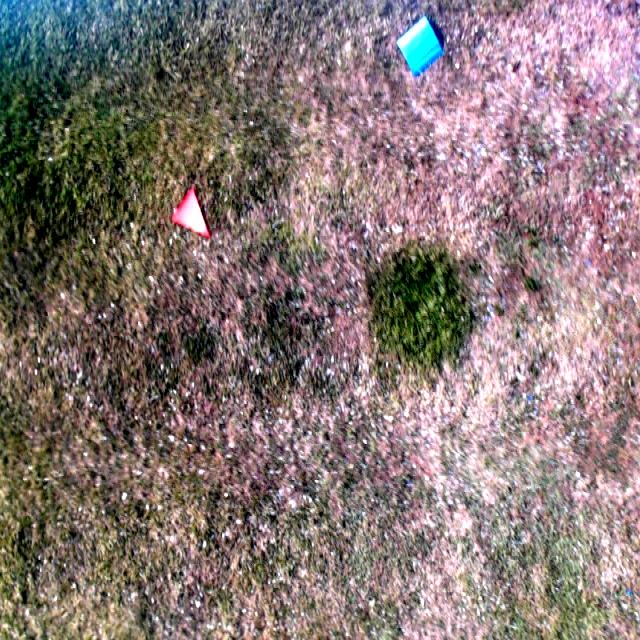blue_square: (398, 18, 442, 78)
red_triangle: (171, 186, 209, 238)
